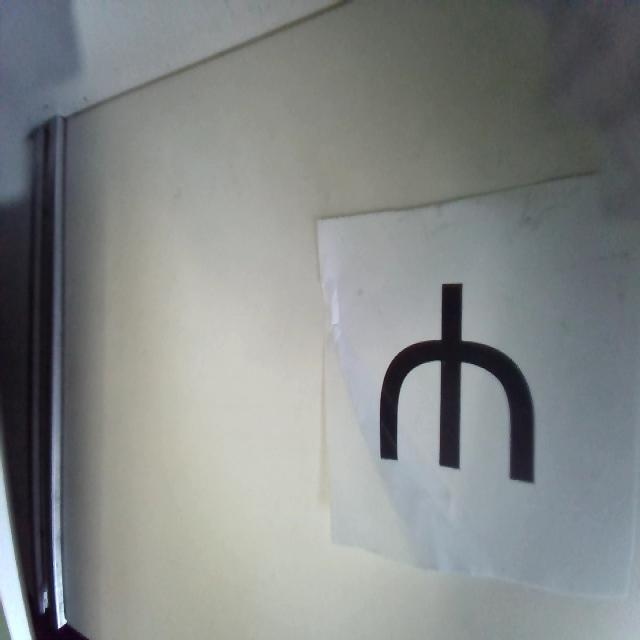nedoF: (377, 282, 537, 483)
